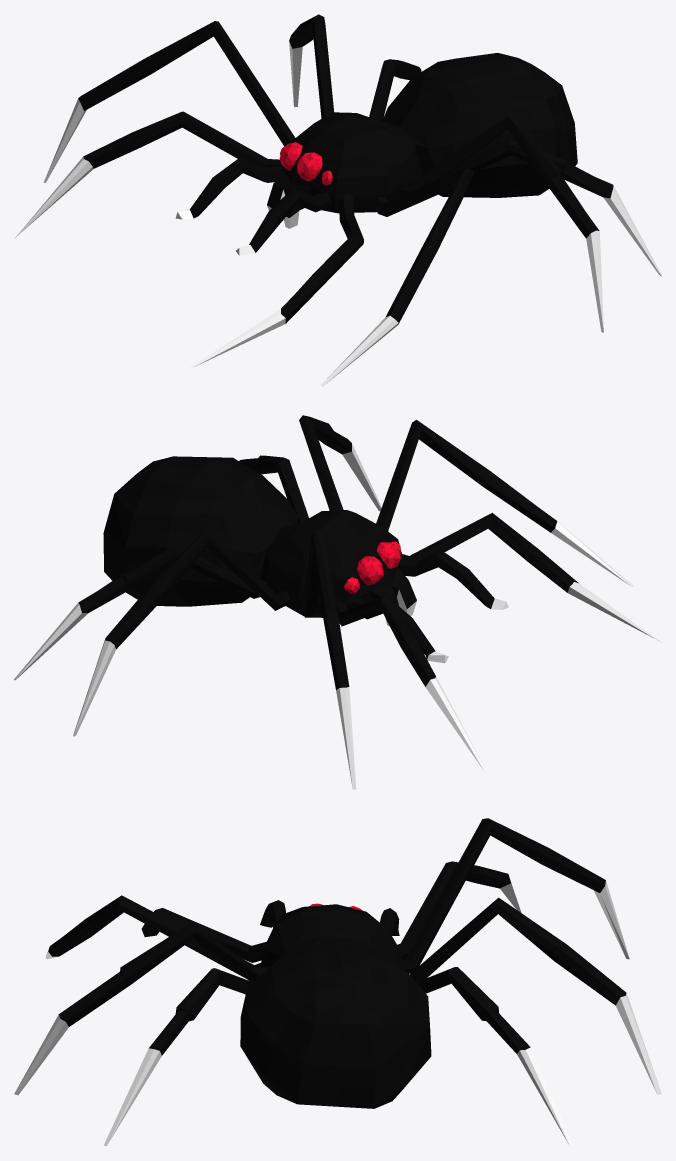
The model's file is spiderIdle2.obj.
3 renders of one model, top to bottom at view 1: azimuth 30°, elevation 25°; view 2: azimuth 150°, elevation 25°; view 3: azimuth 270°, elevation 25°, orthographic. The views are drawn at different scales.
Parts seen in each view (by area): view 1: Cube.003_Cube.004; view 2: Cube.003_Cube.004; view 3: Cube.003_Cube.004.
Boxes of the visible parts, left/top/right/bottom form: Cube.003_Cube.004: left=14, top=14, right=661, bottom=386; Cube.003_Cube.004: left=14, top=415, right=661, bottom=789; Cube.003_Cube.004: left=14, top=818, right=661, bottom=1146.
Bounding box in the file's own units: 29.34 × 11.39 × 34.54.
